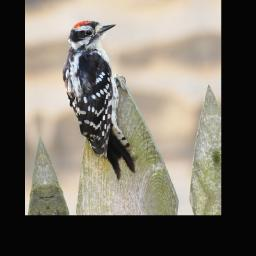Woodpecker: (54, 16, 136, 185)
